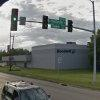Traffic light: (7, 4, 77, 38)
